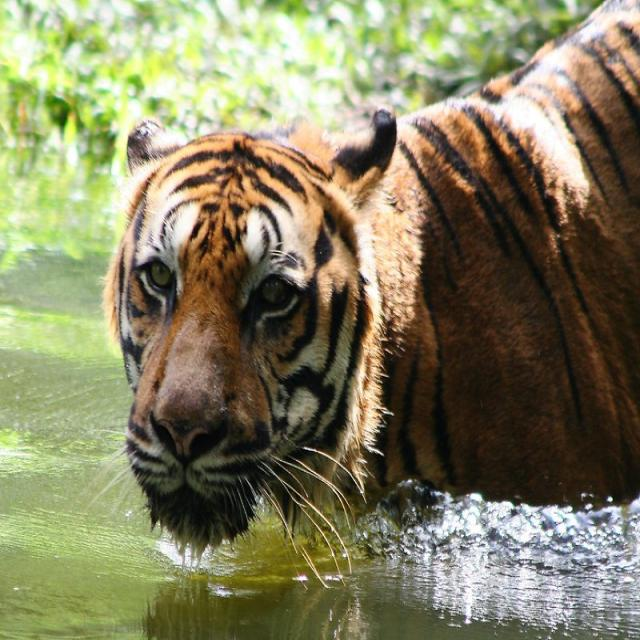Tiger: (101, 0, 639, 576)
